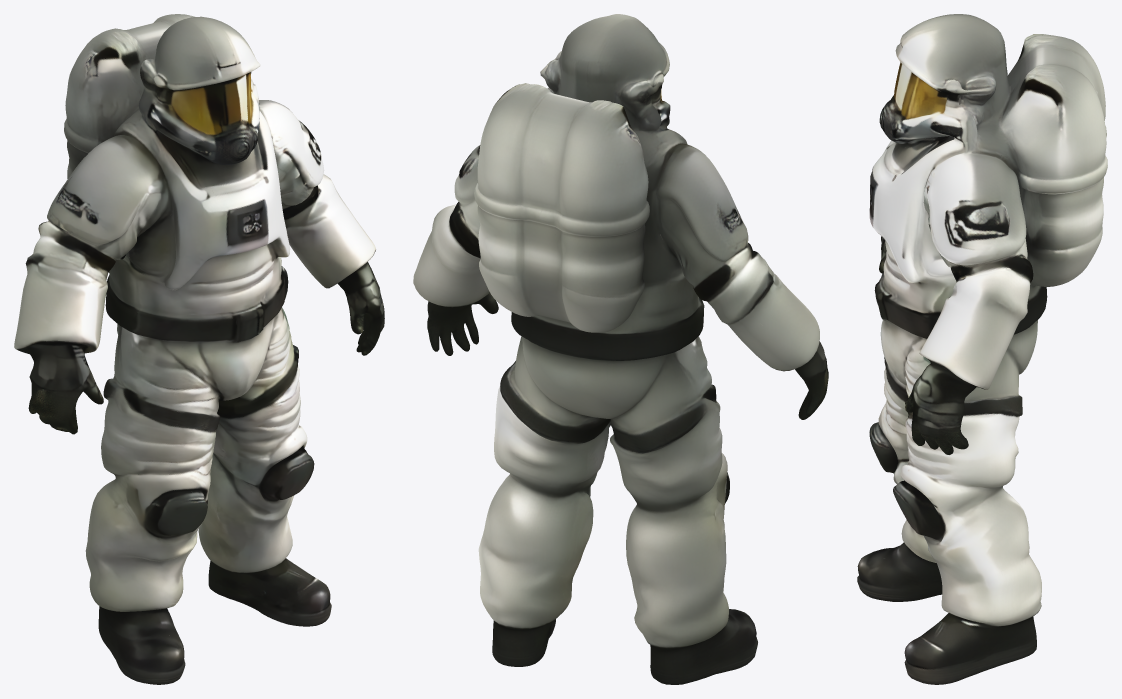
Rendered from sapper.glb.
The picture shows the model from 3 angles, left to right: view 1: azimuth 30°, elevation 25°; view 2: azimuth 150°, elevation 25°; view 3: azimuth 270°, elevation 25°; orthographic projection. The views are drawn at different scales.
Parts seen in each view (by area): view 1: model; view 2: model; view 3: model.
Part boxes in pixels (bbox=[...]): model: bbox=[14, 14, 384, 684]; model: bbox=[413, 14, 828, 684]; model: bbox=[857, 14, 1107, 684].
Bounding box in the file's own units: 1.19 × 1.9 × 0.7045.
Materials: 1 (1 with a texture image).
